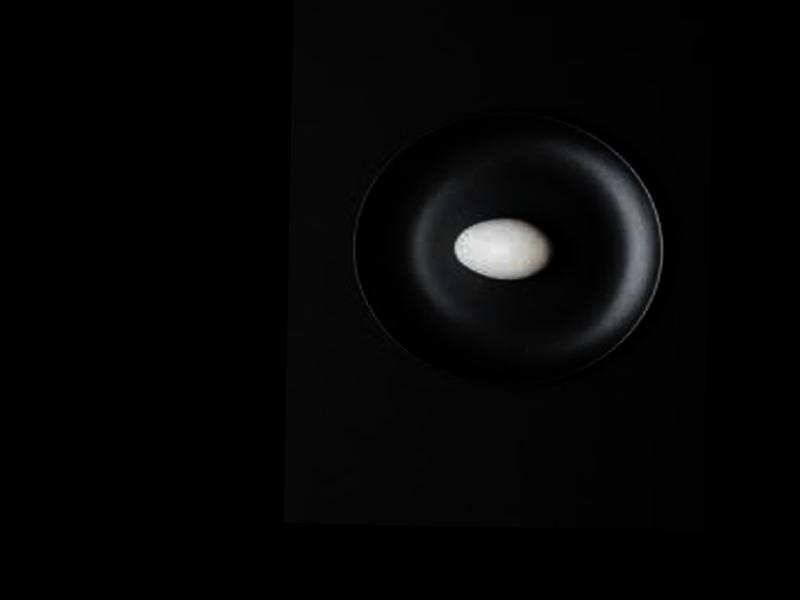Eggs: (453, 216, 553, 280)
